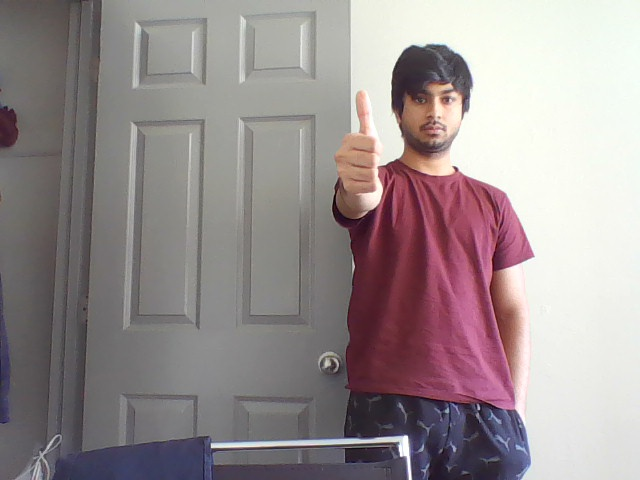confirm: (332, 86, 388, 200)
